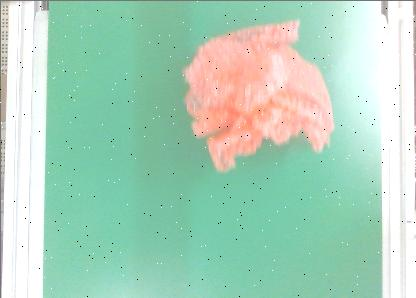Others: (180, 18, 335, 172)
